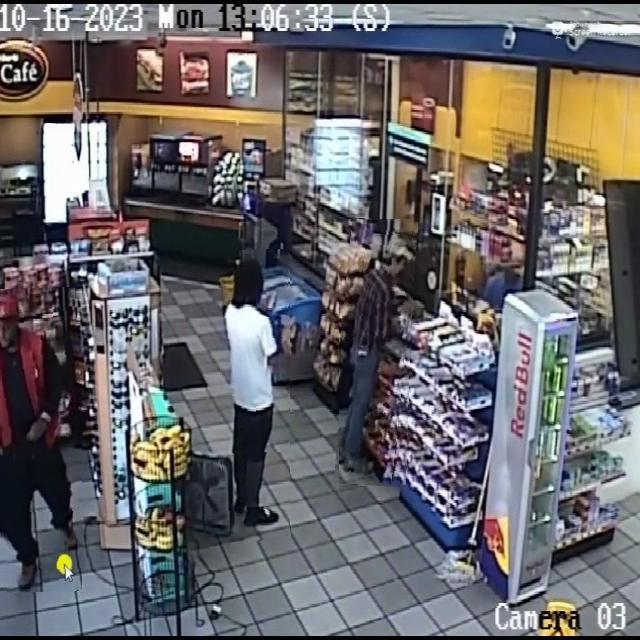Normal: (0, 287, 82, 592), (220, 250, 290, 542), (339, 219, 414, 487)
